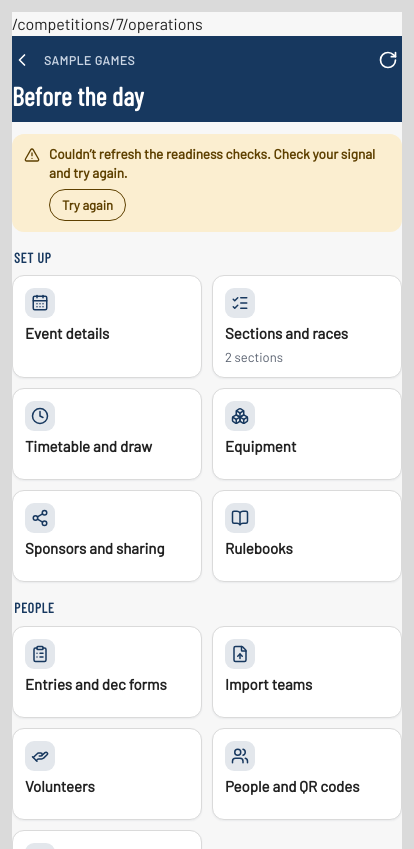
Test: OperationsPage › shows an alert with Try again when the first load fails, with the tiles still there
Expected: the message shows "Couldn’t refresh the readiness checks", left=49, top=145, right=375, bottom=181
Click the button "Try again" at (88,205), box left=49, top=189, right=126, bottom=221
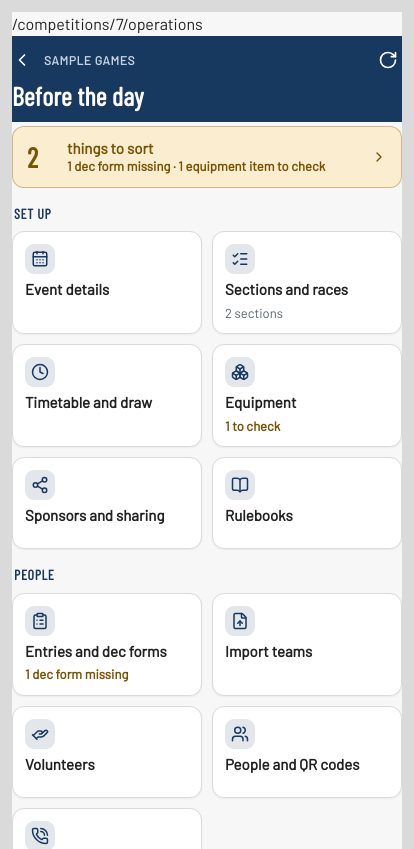
Result: the button "things to sort" is shown at left=12, top=126, right=402, bottom=188
